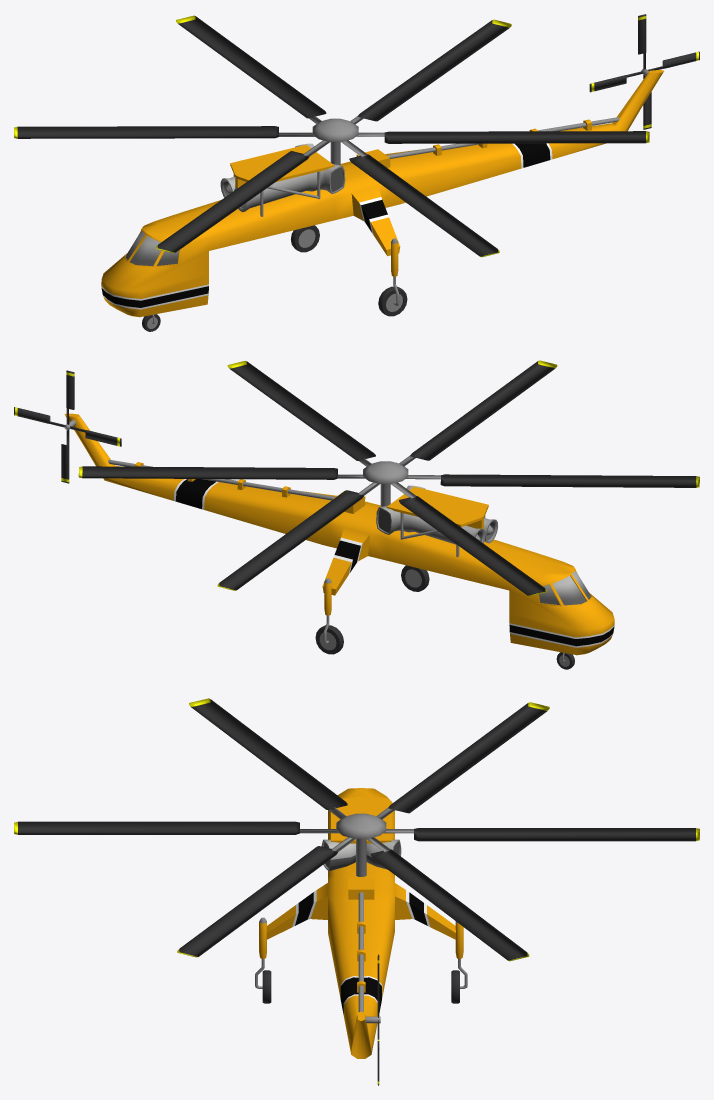
Rendered from sky crane.fbx.
3 views of the same model, one above another, from view 1: azimuth 30°, elevation 25°; view 2: azimuth 150°, elevation 25°; view 3: azimuth 270°, elevation 25° (orthographic). The views are drawn at different scales.
Parts seen in each view (by area): view 1: sky crane chassis, main rotor, tail rotor; view 2: sky crane chassis, main rotor, tail rotor; view 3: main rotor, sky crane chassis.
Boxes of the visible parts, box(x1,y1,x2,y2) form: sky crane chassis: box(101, 70, 663, 331); main rotor: box(14, 15, 649, 257); tail rotor: box(589, 14, 699, 129); sky crane chassis: box(64, 413, 614, 669); main rotor: box(78, 360, 699, 596); tail rotor: box(14, 370, 121, 483); main rotor: box(14, 698, 699, 961); sky crane chassis: box(255, 788, 467, 1058).
Size of the model in its own units: 764 by 222 by 676.
